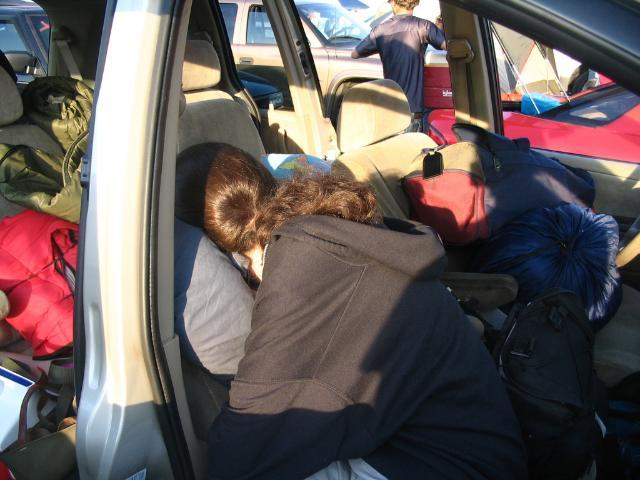Seatbelt: (449, 57, 476, 127), (52, 38, 84, 84)
